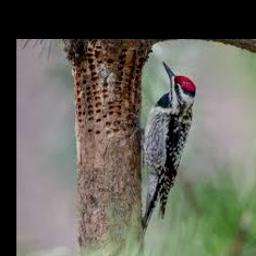Woodpecker: (139, 60, 195, 232)
